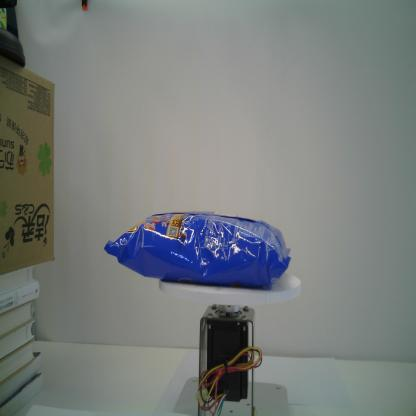Puffed Food: (102, 209, 294, 293)
